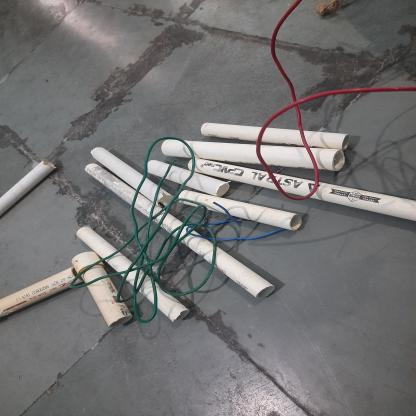PVC: (86, 164, 277, 298), (187, 156, 415, 219), (72, 226, 191, 324), (164, 139, 346, 170), (90, 146, 175, 206), (179, 190, 303, 230), (71, 250, 134, 327), (1, 267, 82, 319), (201, 122, 353, 148), (0, 160, 59, 213), (146, 159, 231, 195)
